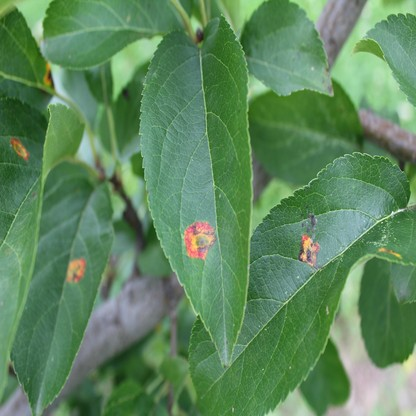rust: (184, 220, 216, 258), (300, 236, 319, 265), (65, 260, 86, 283), (10, 135, 29, 160), (377, 246, 402, 260), (44, 62, 53, 85)
